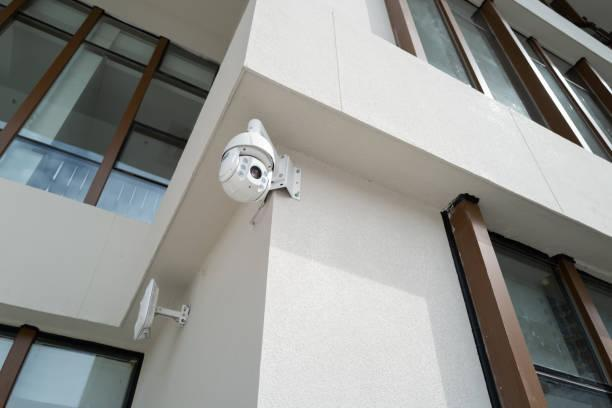camera: (204, 120, 295, 209)
